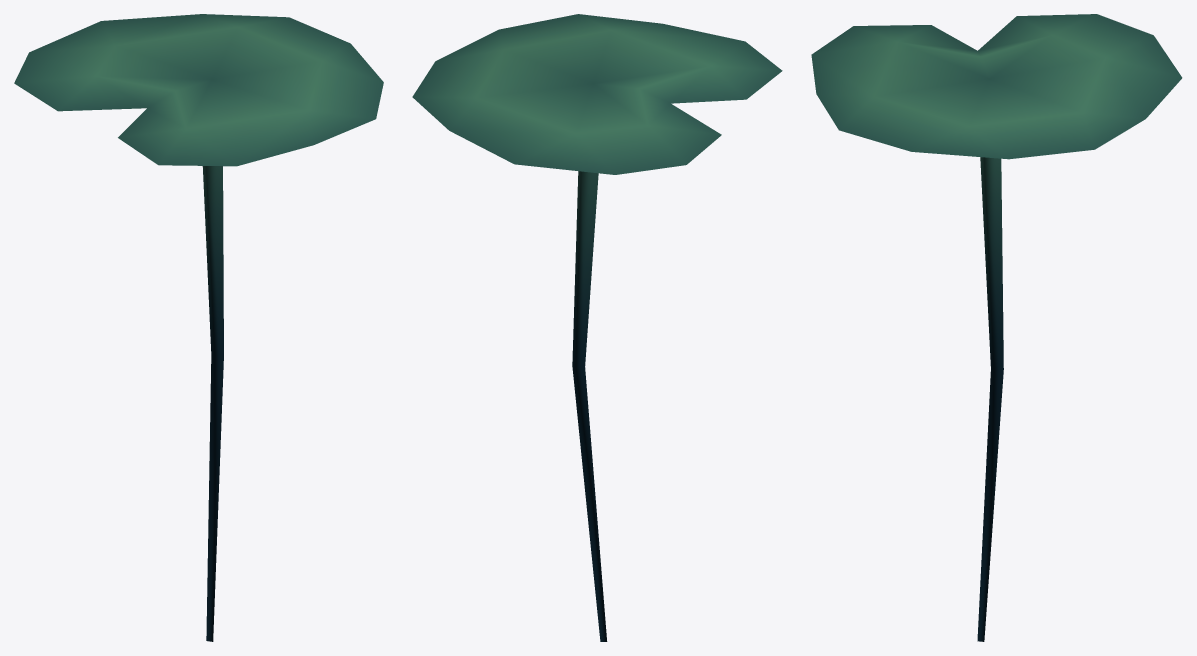
File: Water_Plant_1B.fbx
3 renders of one model, left to right at view 1: azimuth 30°, elevation 25°; view 2: azimuth 150°, elevation 25°; view 3: azimuth 270°, elevation 25°, orthographic.
Visible parts, largest first — view 1: Water_Plant_1B; view 2: Water_Plant_1B; view 3: Water_Plant_1B.
Boxes of the visible parts, x1,y1,x2,y2 form: Water_Plant_1B: (14, 14, 383, 641); Water_Plant_1B: (412, 14, 782, 641); Water_Plant_1B: (811, 14, 1182, 641).
Bounding box in the file's own units: 48.7 × 88.57 × 52.57.
